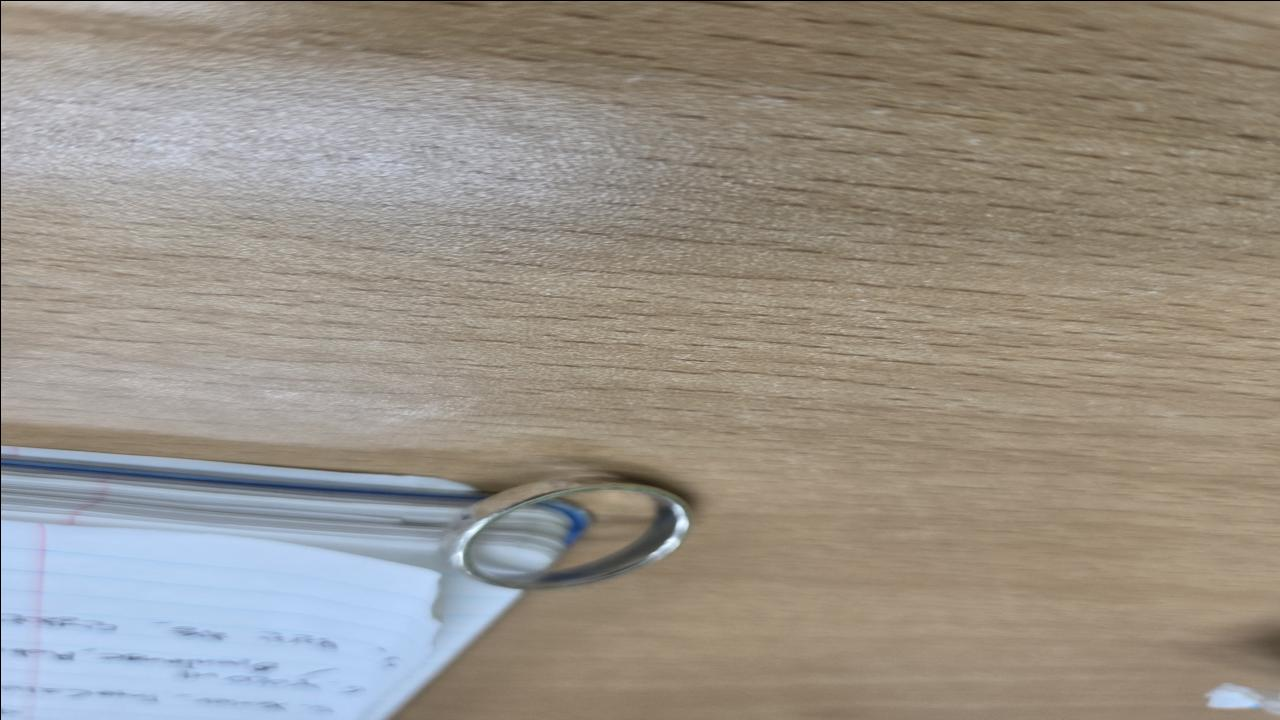ring: (442, 474, 692, 590)
